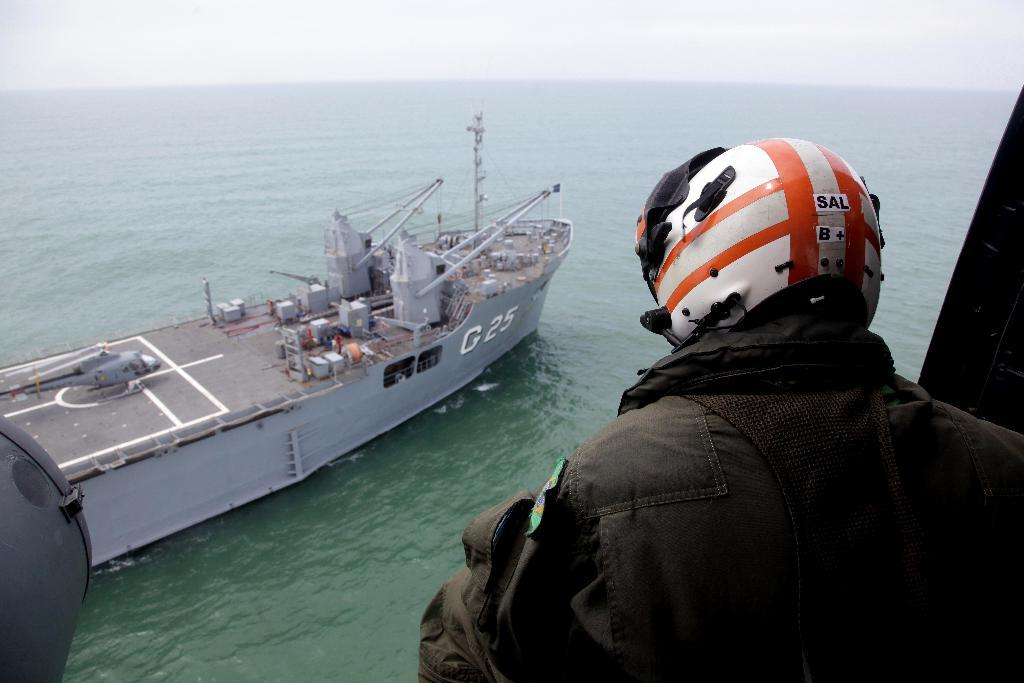helmet: (636, 137, 882, 359)
